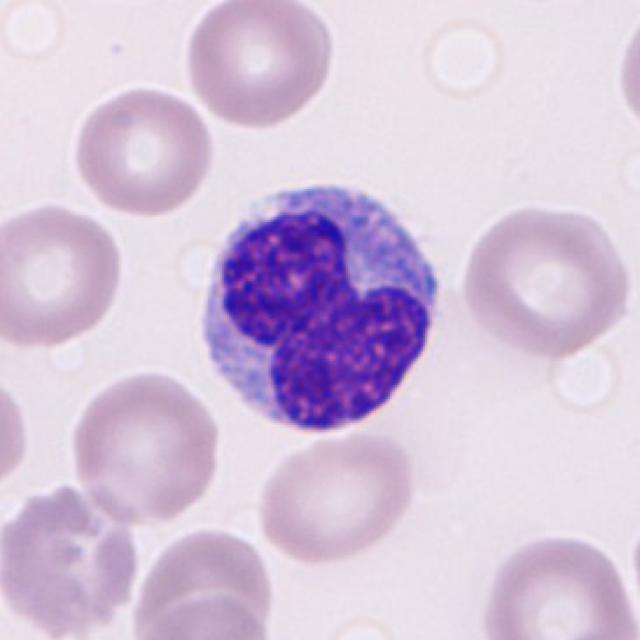Monocyte: (187, 170, 456, 444)
RBC: (454, 198, 636, 360), (64, 366, 226, 529), (252, 427, 421, 567), (0, 479, 142, 638), (180, 0, 341, 130), (68, 82, 220, 218), (0, 197, 129, 352), (472, 527, 638, 640), (128, 522, 278, 640), (413, 10, 512, 106), (132, 589, 276, 640), (544, 344, 622, 417), (0, 0, 77, 66), (0, 368, 33, 500), (612, 5, 640, 139), (300, 610, 421, 640)
